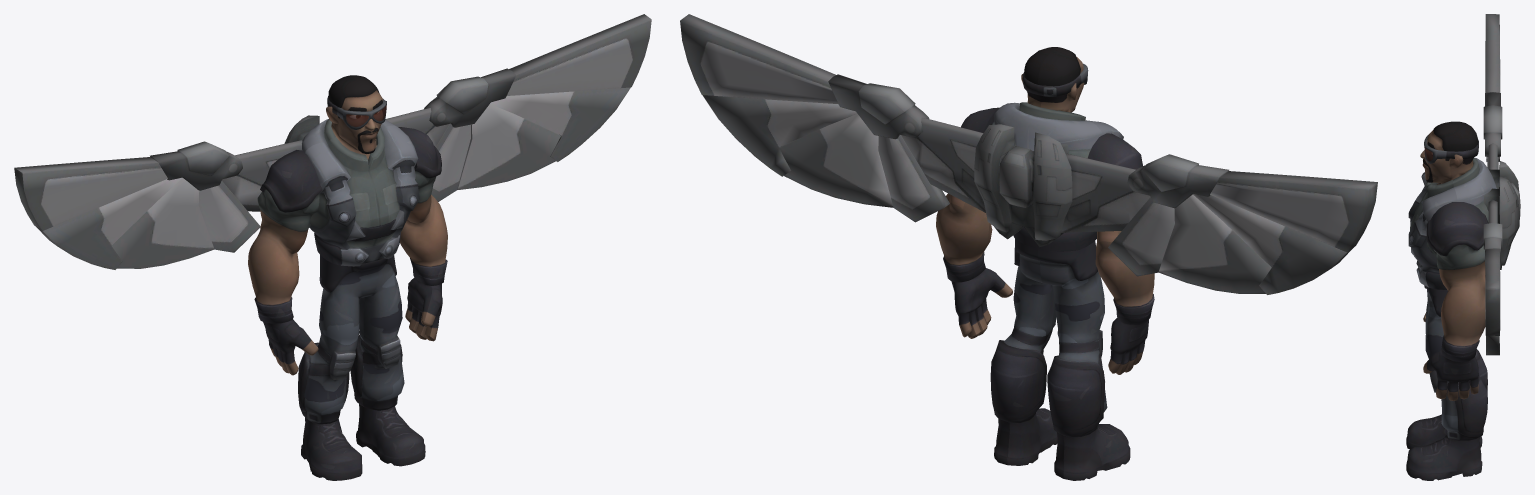
File: falcon.glb
3 views of the same model, side by side, from view 1: azimuth 30°, elevation 25°; view 2: azimuth 150°, elevation 25°; view 3: azimuth 270°, elevation 25° (orthographic). The views are drawn at different scales.
Visible parts, largest first — view 1: AVG_Falcon_Movie_Body, AVG_Falcon_Movie_Wings_LOD_0; view 2: AVG_Falcon_Movie_Wings_LOD_0, AVG_Falcon_Movie_Body, AVG_Falcon_Movie_Wing_Pack_LOD_0; view 3: AVG_Falcon_Movie_Body, AVG_Falcon_Movie_Wings_LOD_0, AVG_Falcon_Movie_Wing_Pack_LOD_0.
Boxes of the visible parts, x1,y1,x2,y2 form: AVG_Falcon_Movie_Body: (248,75,447,480); AVG_Falcon_Movie_Wings_LOD_0: (14,14,651,269); AVG_Falcon_Movie_Wings_LOD_0: (680,14,1377,294); AVG_Falcon_Movie_Body: (936,47,1154,480); AVG_Falcon_Movie_Wing_Pack_LOD_0: (974,124,1072,247); AVG_Falcon_Movie_Body: (1406,121,1496,480); AVG_Falcon_Movie_Wings_LOD_0: (1483,14,1502,355); AVG_Falcon_Movie_Wing_Pack_LOD_0: (1484,161,1520,269).
Size of the model in its own units: 3.78 by 2.14 by 0.6658.
4 materials, 4 textured.
